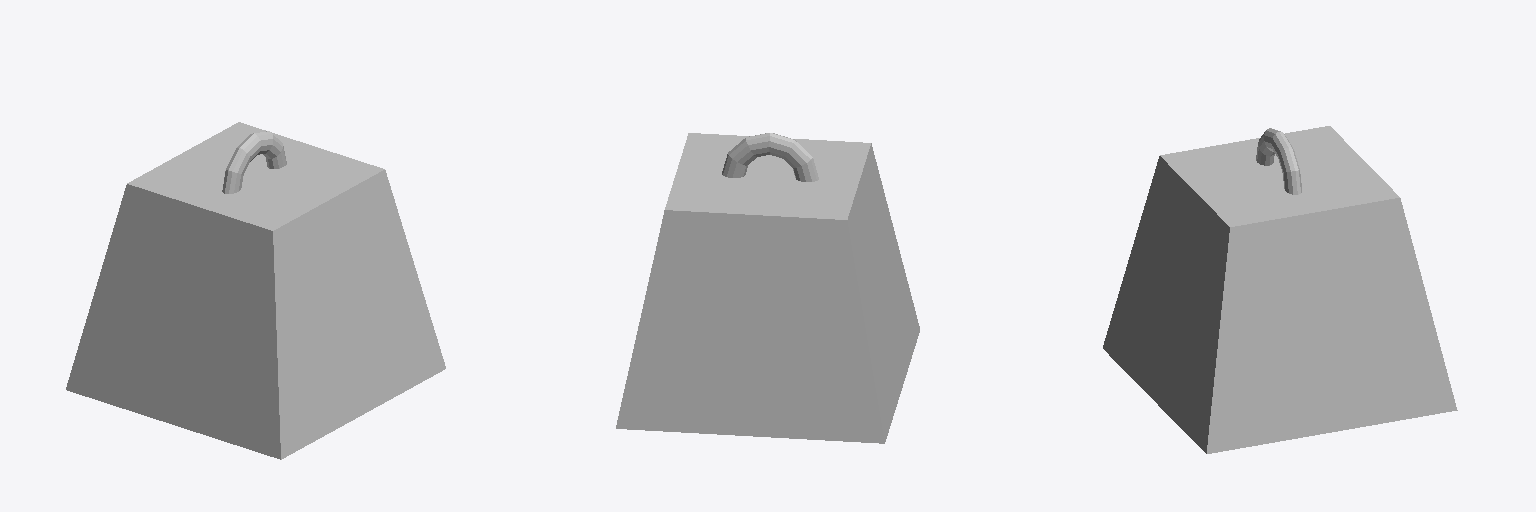
The model's file is Tile_Bigger.obj.
3 renders of one model, left to right at view 1: azimuth 30°, elevation 25°; view 2: azimuth 150°, elevation 25°; view 3: azimuth 270°, elevation 25°, orthographic.
Visible parts, largest first — view 1: Box001; view 2: Box001; view 3: Box001.
Boxes of the visible parts, <box> form: Box001: <box>66,122,445,459</box>; Box001: <box>616,133,919,443</box>; Box001: <box>1103,126,1457,453</box>.
Bounding box in the file's own units: 3.44 × 2.64 × 3.44.